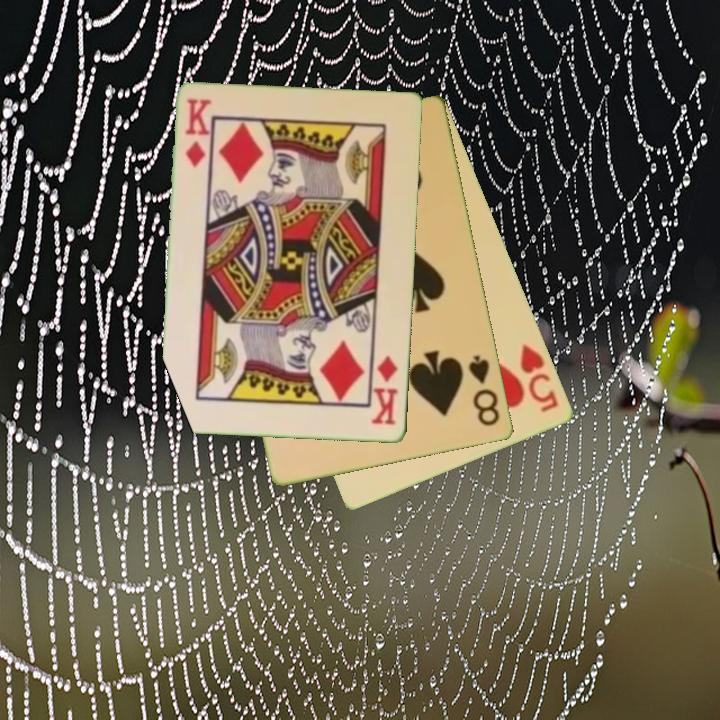5h: (517, 341, 562, 416)
8s: (465, 352, 503, 430)
Kd: (369, 352, 401, 428), (182, 95, 213, 171)
